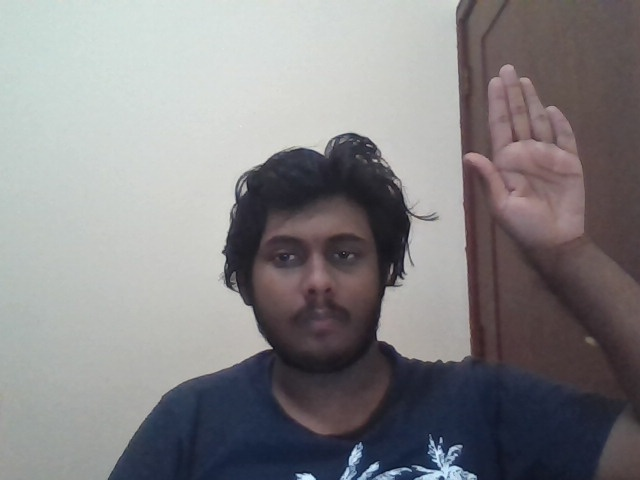hello: (463, 64, 586, 249)
